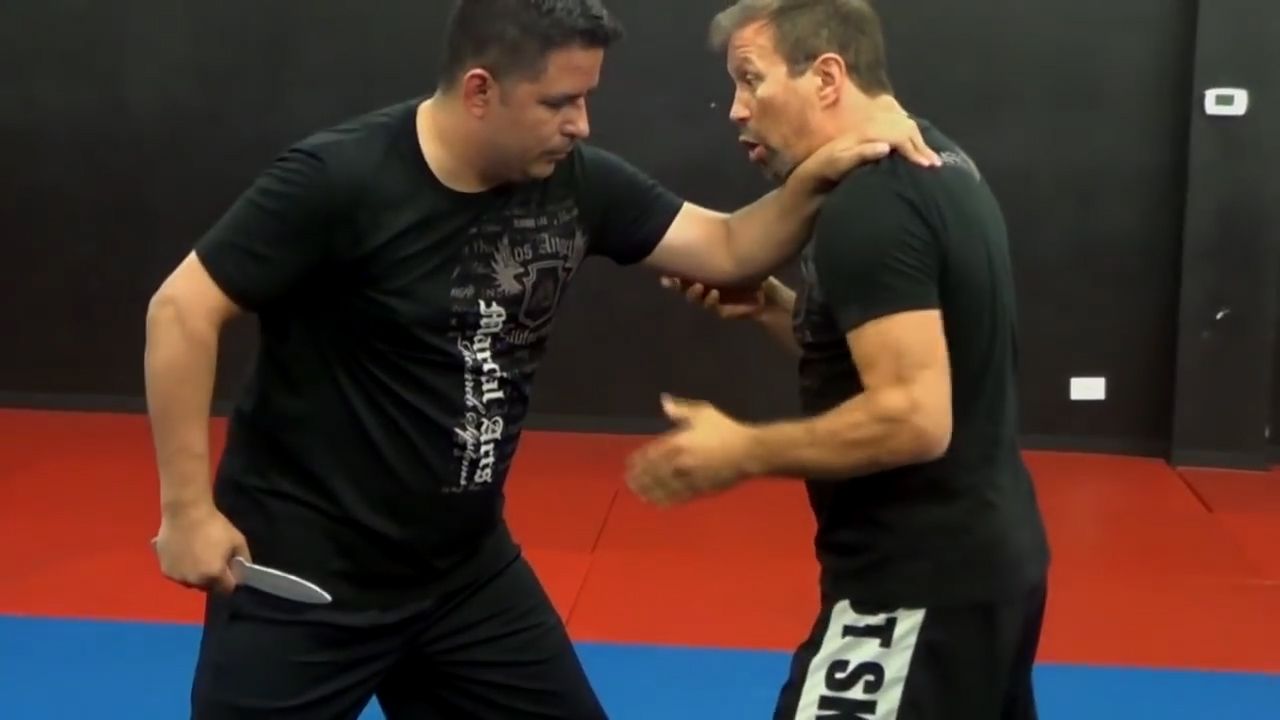knife: (145, 529, 340, 611)
